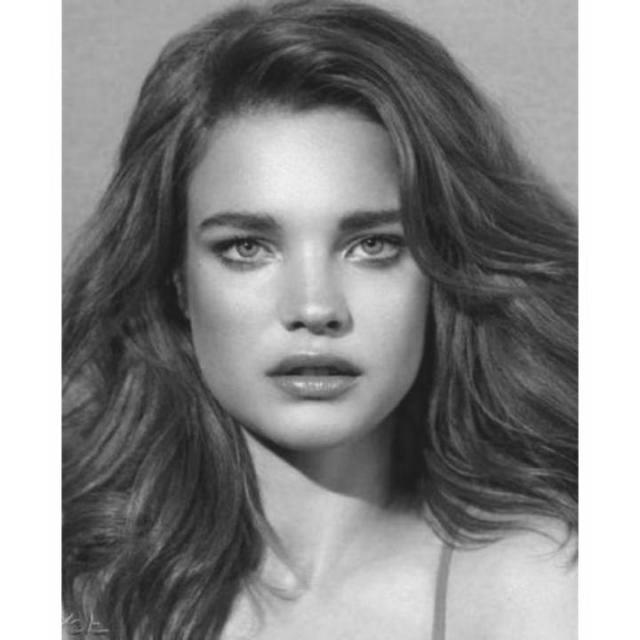real: (167, 28, 453, 466)
